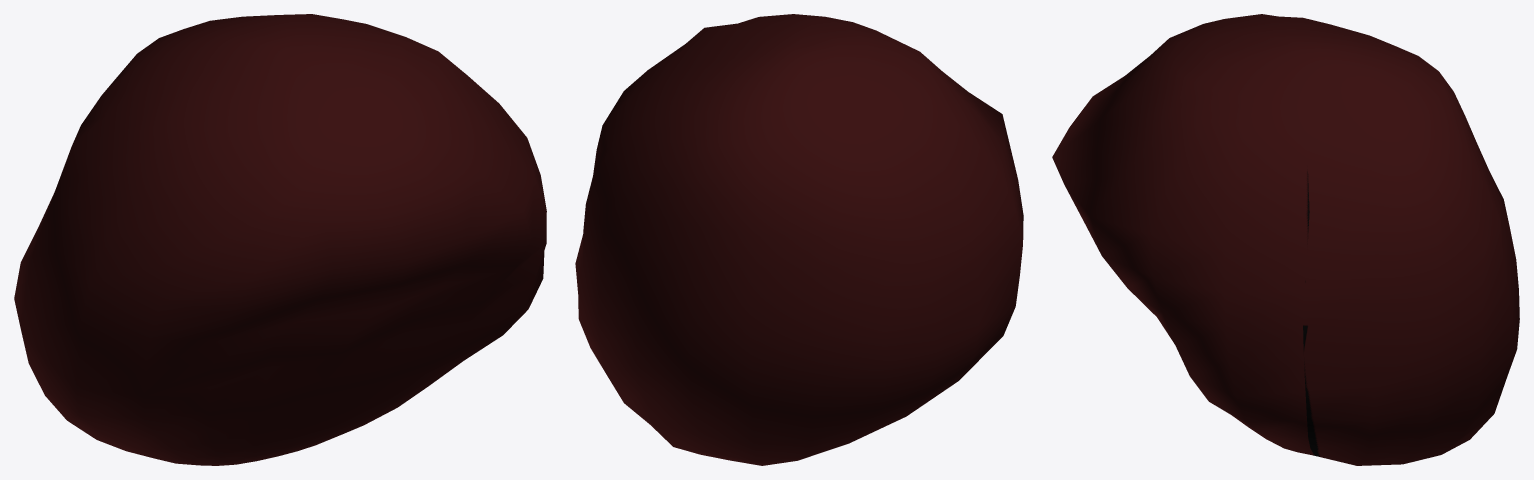
The model's file is hair_04_3.fbx.
The picture shows the model from 3 angles, left to right: view 1: azimuth 30°, elevation 25°; view 2: azimuth 150°, elevation 25°; view 3: azimuth 270°, elevation 25°; orthographic projection. The views are drawn at different scales.
Parts seen in each view (by area): view 1: hair_04; view 2: hair_04; view 3: hair_04.
Boxes of the visible parts, x1,y1,x2,y2 form: hair_04: (14, 14, 546, 465); hair_04: (575, 14, 1023, 465); hair_04: (1052, 14, 1519, 465).
Bounding box in the file's own units: 33.76 × 30.08 × 32.17.
